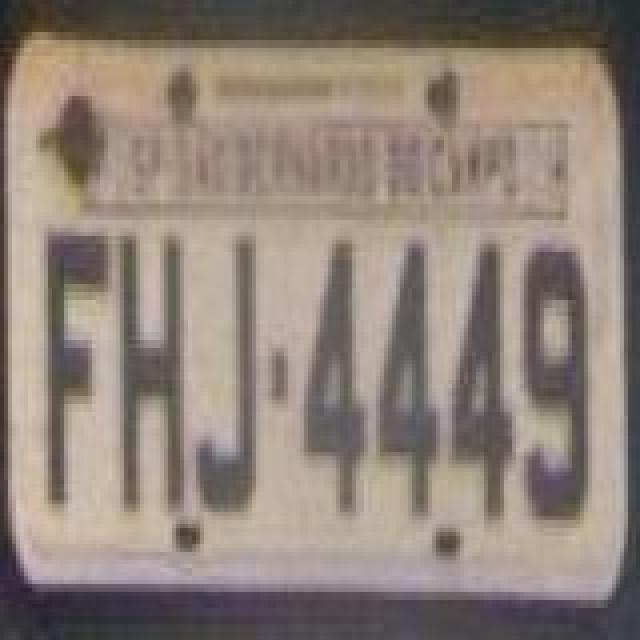4: (302, 238, 370, 522), (450, 238, 518, 522), (376, 238, 440, 522)
9: (516, 238, 588, 522)
F: (48, 226, 112, 510)
H: (116, 226, 188, 518)
J: (192, 230, 256, 522)
